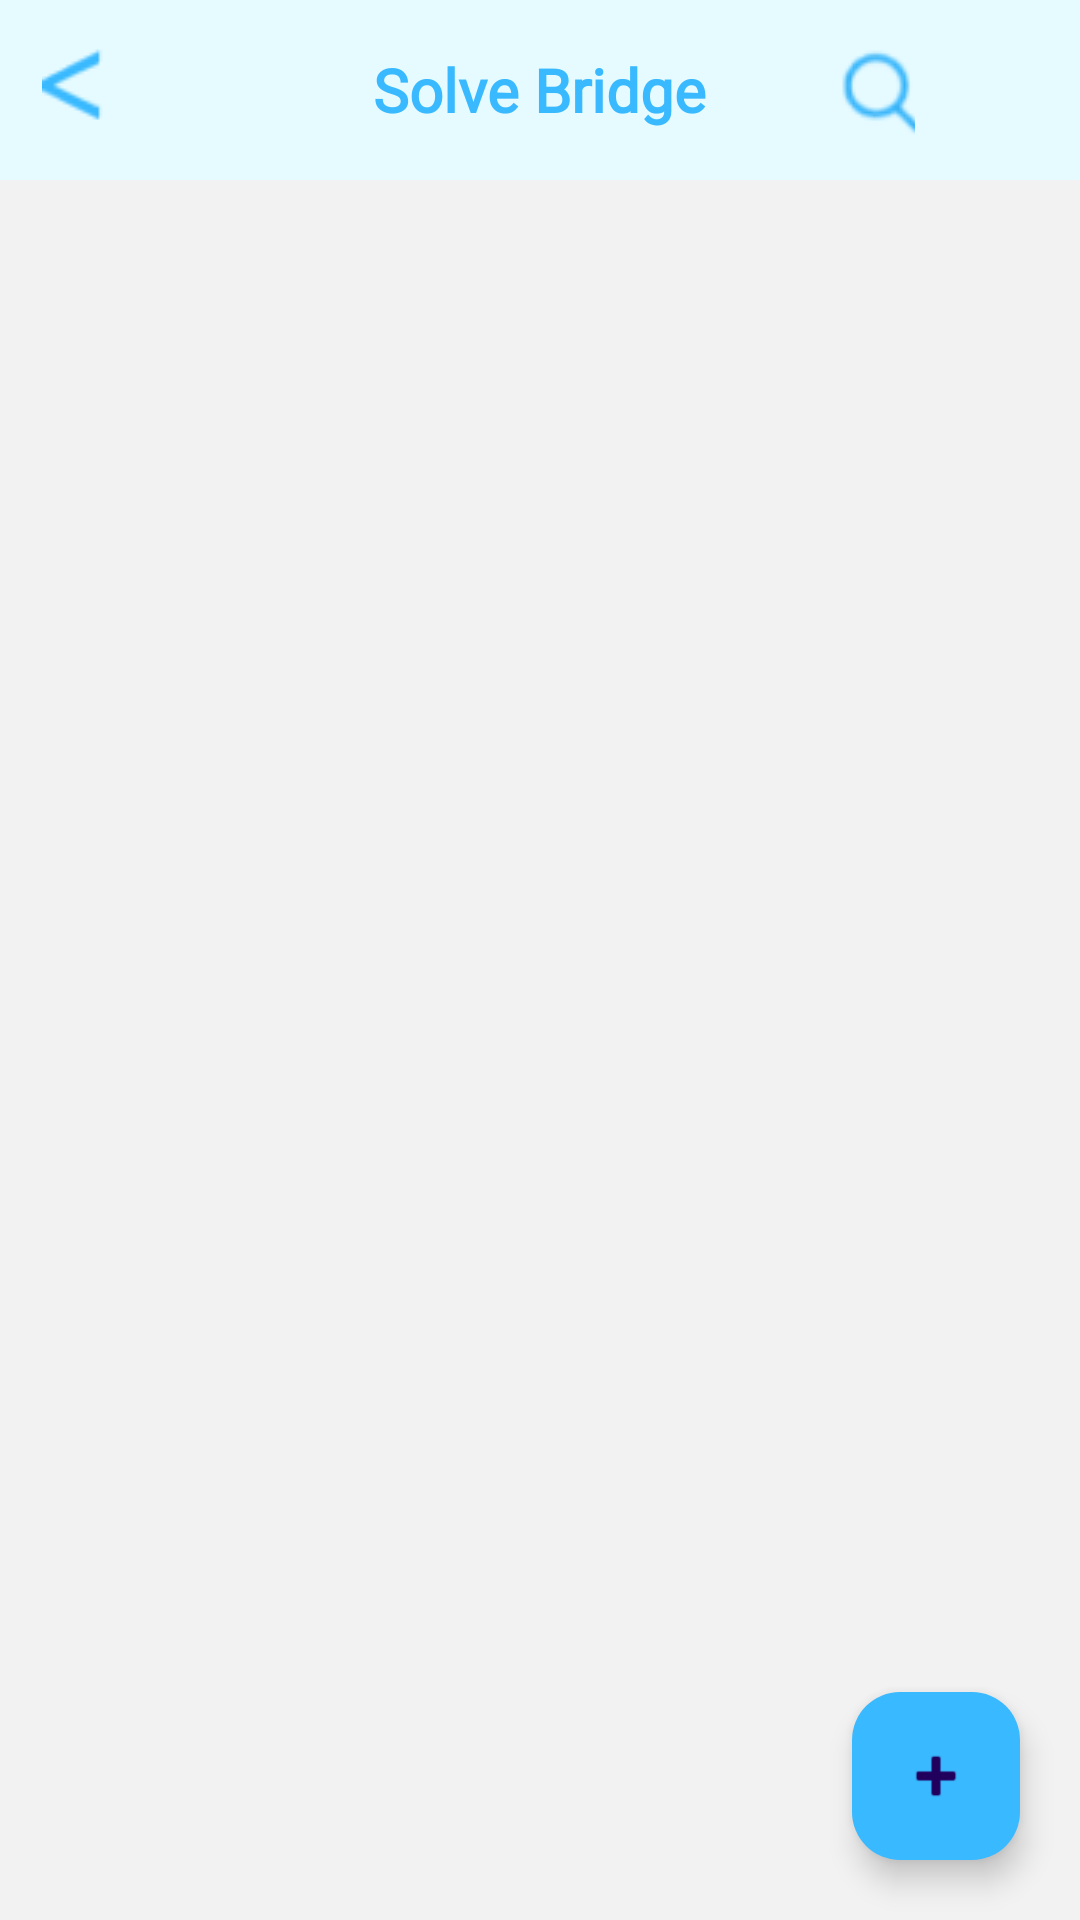

Named icons in this screenshot (1080 x 1920) and their centers, (x=x, y=y):
back: (x=71, y=85)
Post Problem: (x=936, y=1776)
search: (x=878, y=92)
